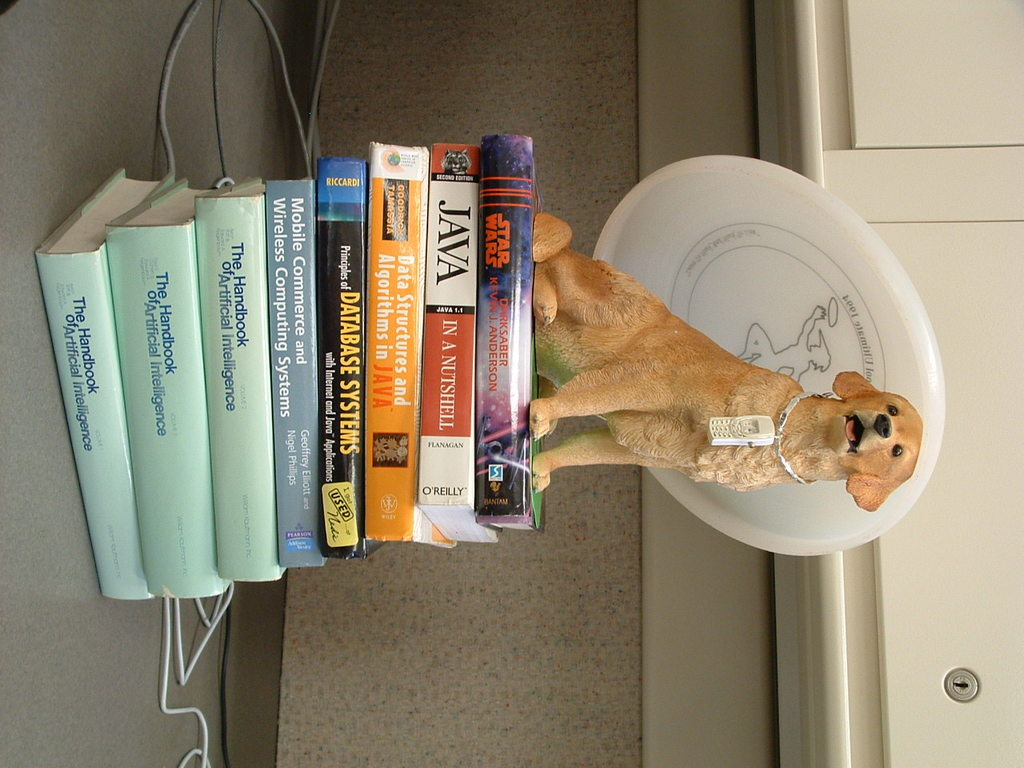Book: (34, 131, 543, 601)
